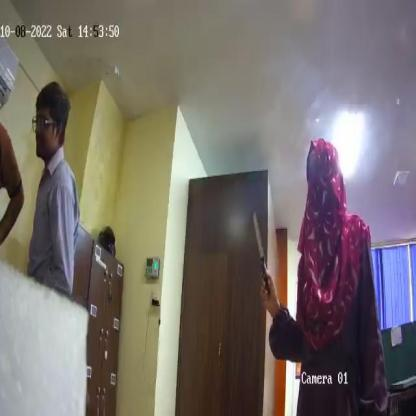Knife: (250, 211, 272, 294)
